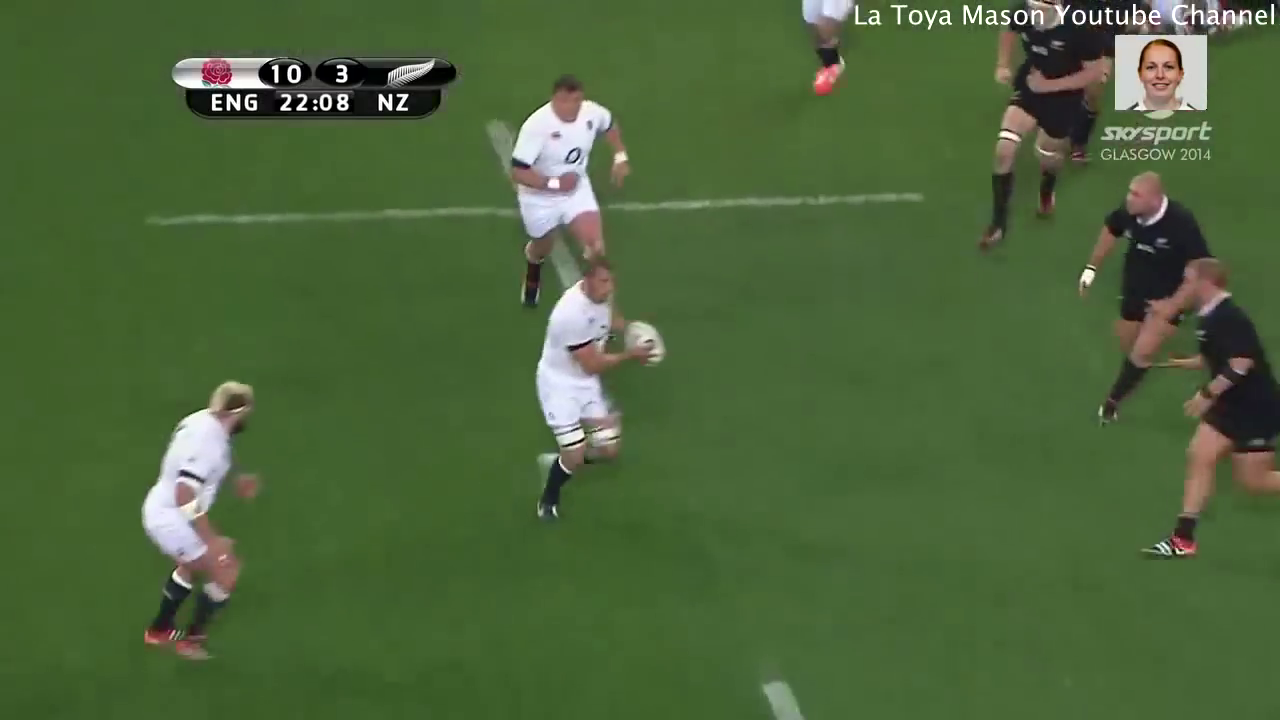10_metre: (132, 115, 941, 322)
ball: (612, 297, 687, 386)
player: (513, 242, 692, 537), (1125, 242, 1280, 571), (129, 358, 278, 677), (1065, 161, 1224, 439), (492, 56, 626, 344), (963, 1, 1113, 254)
